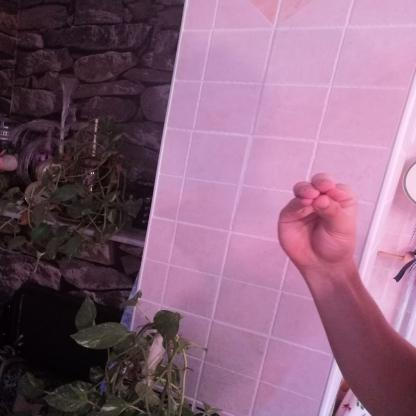HA: (264, 165, 374, 278)
